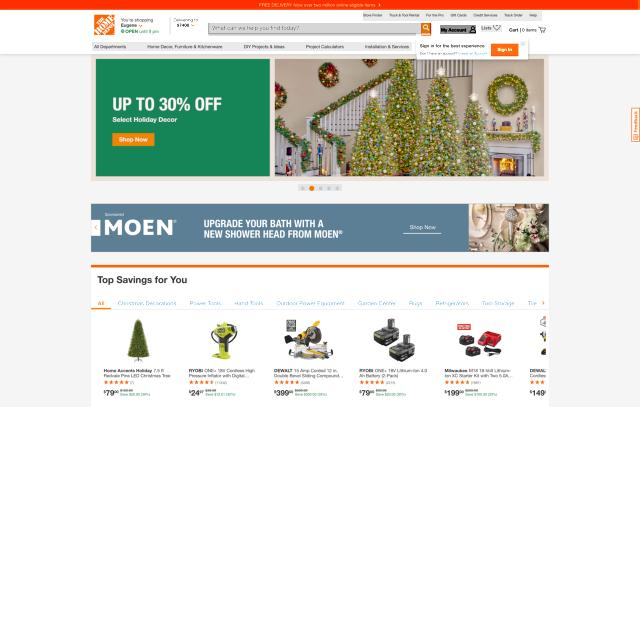CheckBox: (440, 25, 476, 34), (492, 44, 518, 56), (509, 26, 547, 34), (482, 26, 504, 34), (422, 24, 430, 36)
CheckedTextView: (208, 24, 431, 36)
ProgressBar: (1, 0, 638, 10)
alert: (171, 15, 201, 29)
card: (95, 57, 544, 178)
carousel: (520, 41, 526, 46)
decoration: (92, 42, 412, 51), (364, 11, 544, 21)
dropdown: (298, 184, 342, 191)
footer: (211, 26, 300, 34)
icon: (91, 296, 549, 309)
label: (416, 35, 528, 59)
